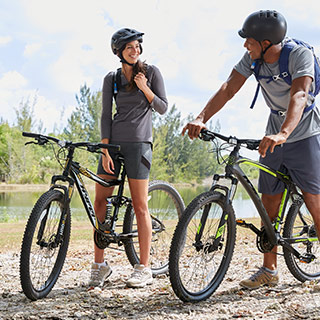with_helmet: (238, 10, 287, 50), (108, 29, 145, 54)
